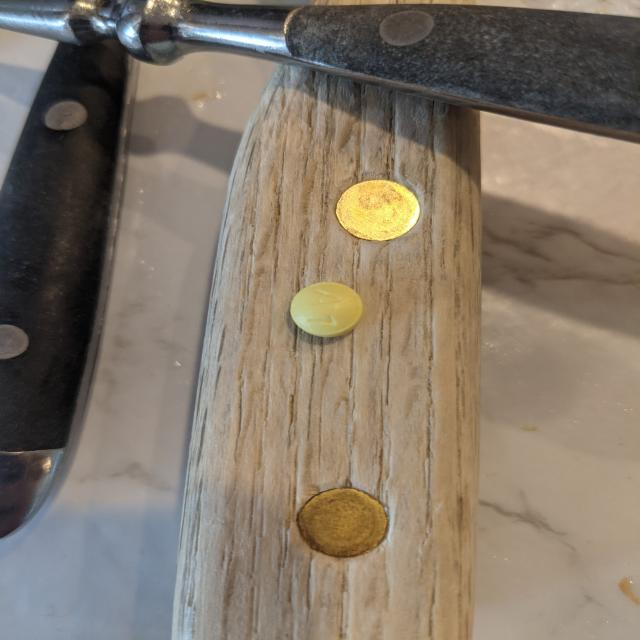non-organic waste: (288, 282, 364, 338)
